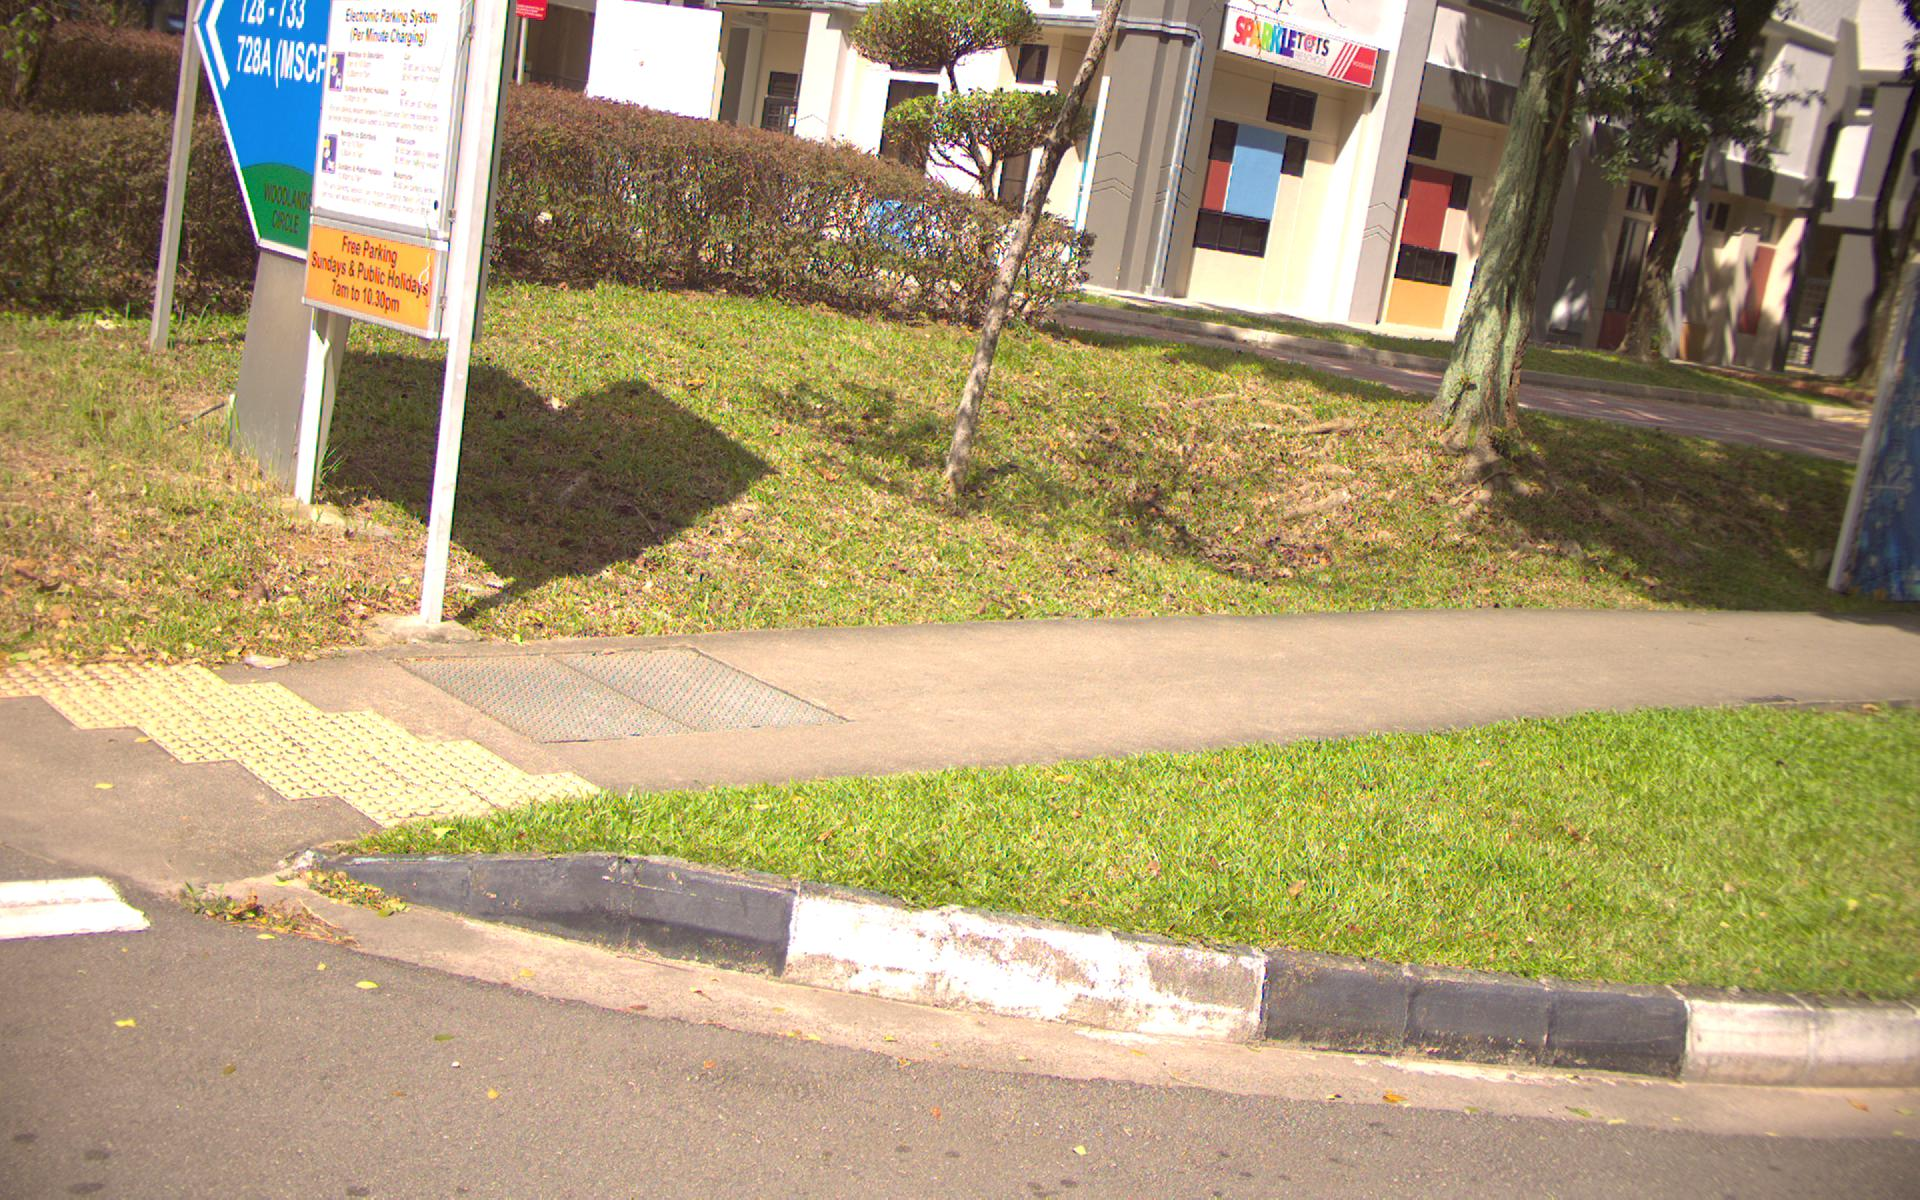pathway_low: (500, 614, 1920, 711)
road_turf_low: (10, 317, 1052, 618), (1373, 731, 1920, 958)
